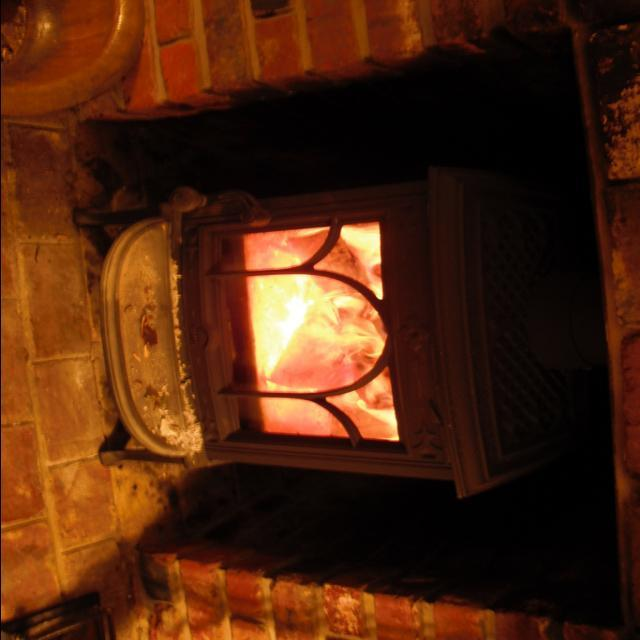Fire: (250, 221, 387, 441)
